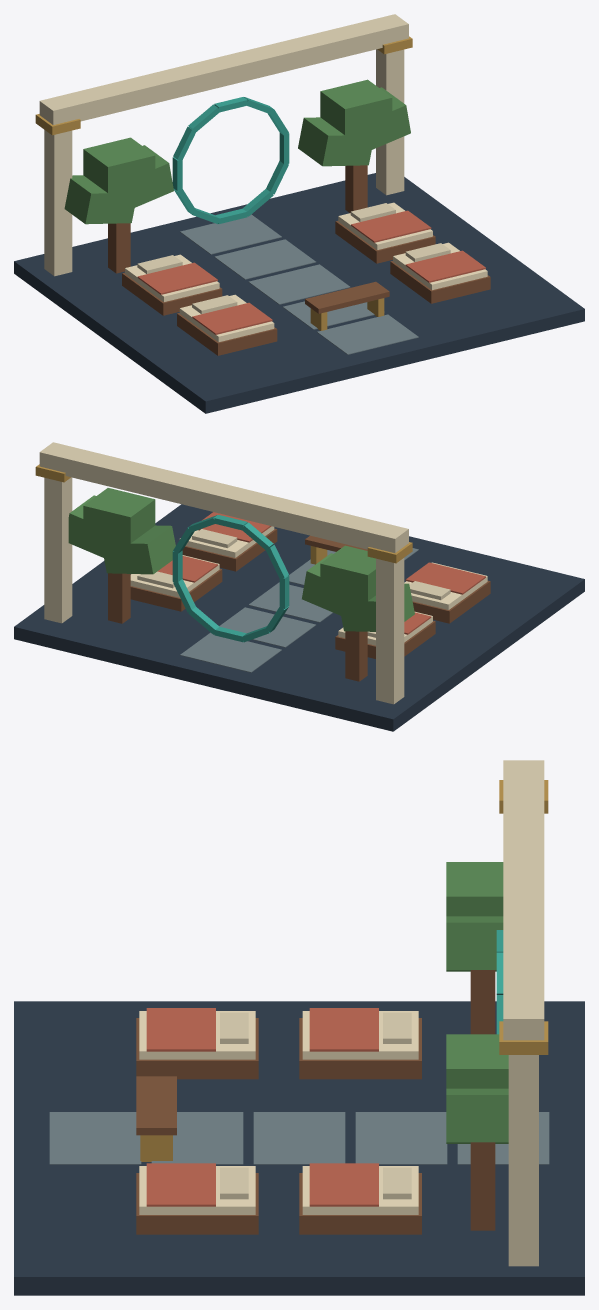
Rendered from transform.glb.
The picture shows the model from 3 angles, top to bottom: view 1: azimuth 30°, elevation 25°; view 2: azimuth 150°, elevation 25°; view 3: azimuth 270°, elevation 25°; orthographic projection. The views are drawn at different scales.
Parts seen in each view (by area): view 1: transform; view 2: transform; view 3: transform.
Boxes of the visible parts, <box> form: transform: <box>14,14,584,413</box>; transform: <box>14,442,584,731</box>; transform: <box>14,760,584,1295</box>.
Size of the model in its own units: 32 by 14.5 by 28.
